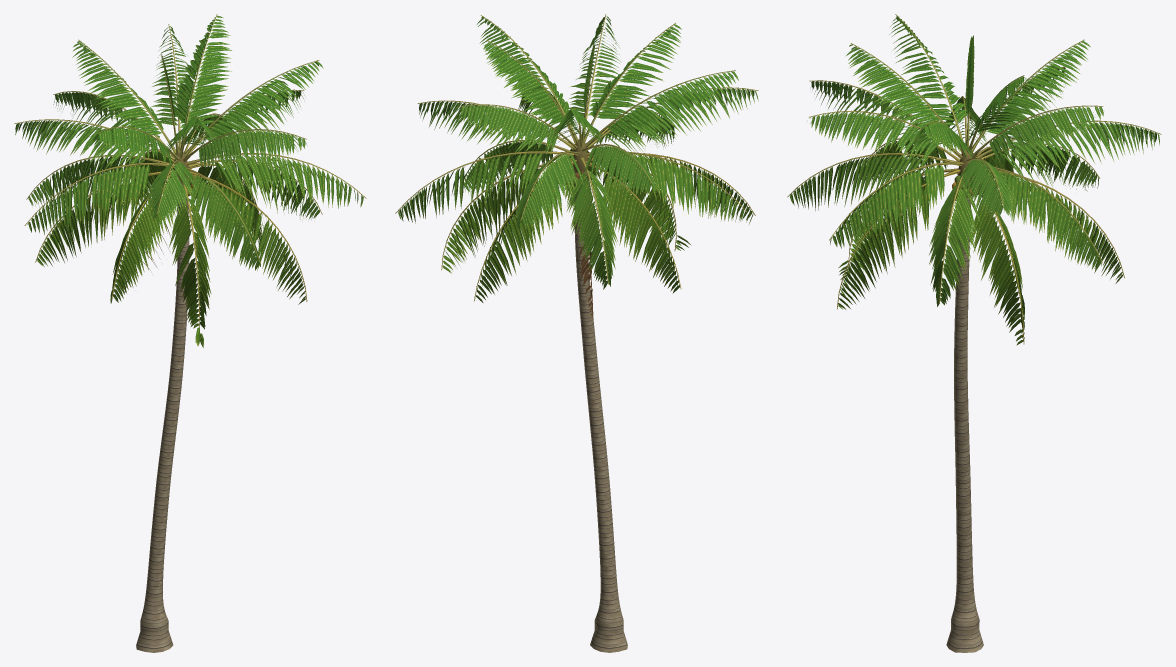
3 renders of one model, left to right at view 1: azimuth 30°, elevation 25°; view 2: azimuth 150°, elevation 25°; view 3: azimuth 270°, elevation 25°, orthographic. The views are drawn at different scales.
Visible parts, largest first — view 1: fronds, trunk; view 2: fronds, trunk, crown_husk; view 3: fronds, trunk.
Boxes of the visible parts, bbox=[...] form: fronds: bbox=[14, 14, 366, 347]; trunk: bbox=[136, 182, 189, 652]; fronds: bbox=[395, 14, 758, 302]; trunk: bbox=[573, 169, 627, 652]; crown_husk: bbox=[565, 139, 593, 317]; fronds: bbox=[787, 14, 1161, 345]; trunk: bbox=[946, 181, 983, 652].
Bounding box in the file's own units: 9.94 × 18.64 × 10.23.
3 materials, 3 textured.
